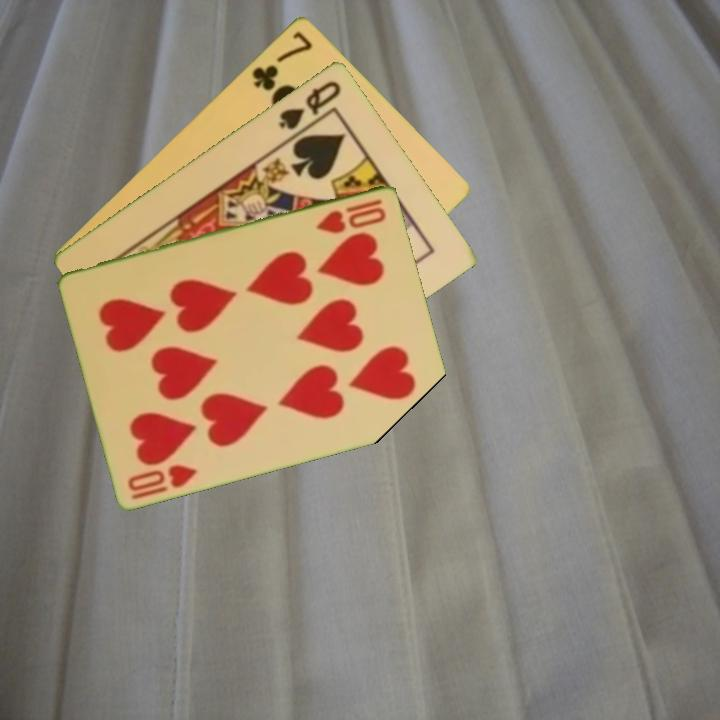10h: (124, 460, 200, 502), (313, 195, 389, 236)
7c: (248, 26, 315, 94)
Qs: (275, 76, 344, 133)
